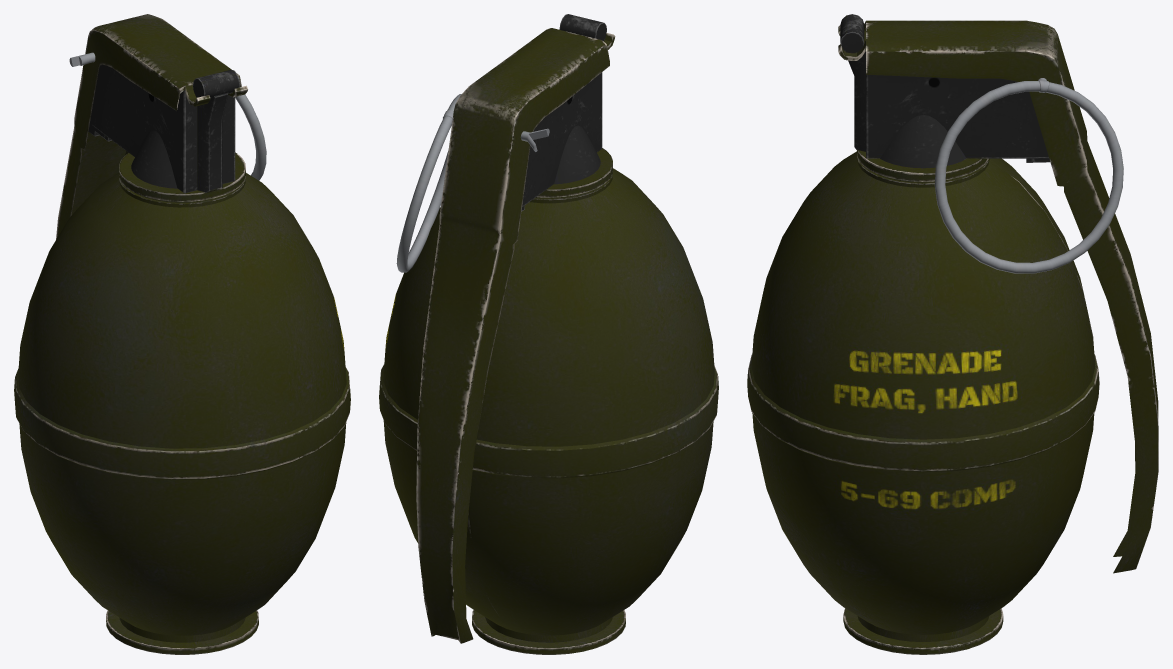
Rendered from grenade_frag.gltf.
The picture shows the model from 3 angles, left to right: view 1: azimuth 30°, elevation 25°; view 2: azimuth 150°, elevation 25°; view 3: azimuth 270°, elevation 25°; orthographic projection. The views are drawn at different scales.
Visible parts, largest first — view 1: Body, Pin; view 2: Body, Pin; view 3: Body, Pin.
Boxes of the visible parts, <box> form: Body: <box>14,14,350,654</box>; Pin: <box>69,52,266,180</box>; Body: <box>379,14,718,654</box>; Pin: <box>396,94,549,272</box>; Body: <box>747,14,1158,654</box>; Pin: <box>934,78,1123,273</box>.
Bounding box in the file's own units: 0.0544 × 0.1018 × 0.0635.
1 material, 1 textured.
